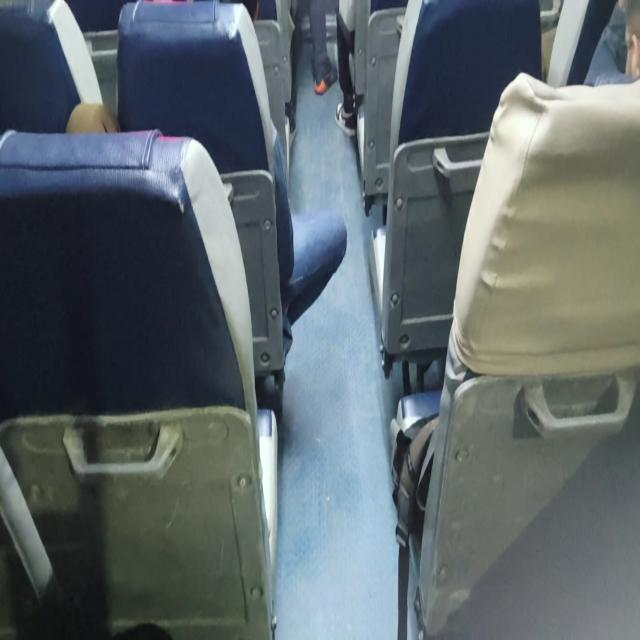person: (395, 0, 639, 636), (64, 0, 347, 409), (287, 0, 364, 138), (334, 0, 371, 137), (582, 0, 639, 86), (309, 0, 338, 95), (65, 101, 120, 134), (618, 0, 640, 82)
